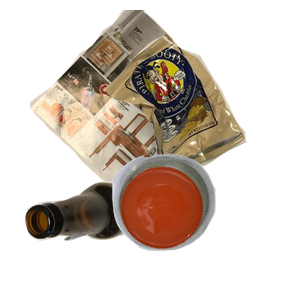glass: (23, 179, 183, 300)
paper: (27, 10, 230, 190)
plastic: (110, 152, 300, 300)
trash: (101, 33, 300, 206)
